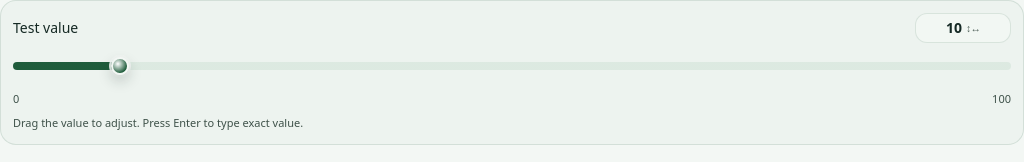
NumericSliderField › supports tap-to-type direct value entry
Click the number field named "test value" at (963, 28), box [915,13,1011,43]
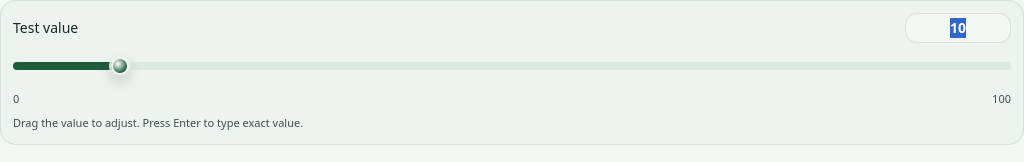
Replace the text in the field named "Edit Test value" with "37" at (958, 28), box [918,18,998,38]
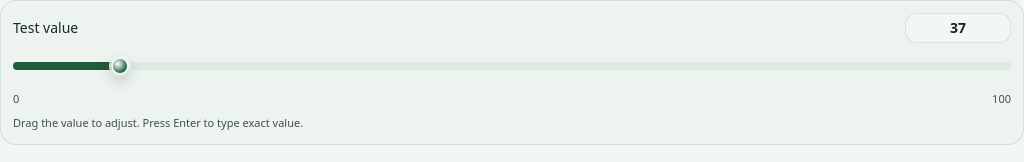
Press Enter in the field named "Edit Test value", box [918,18,998,38]
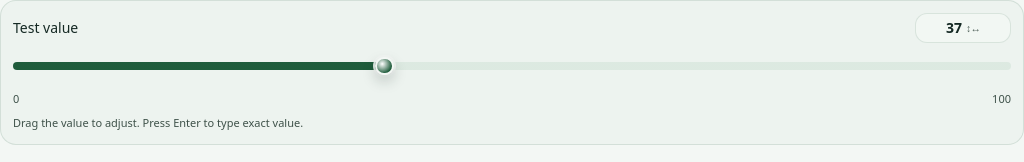
Now the number field named "test value" has attribute aria-valuenow="37", box [915,13,1011,43]
